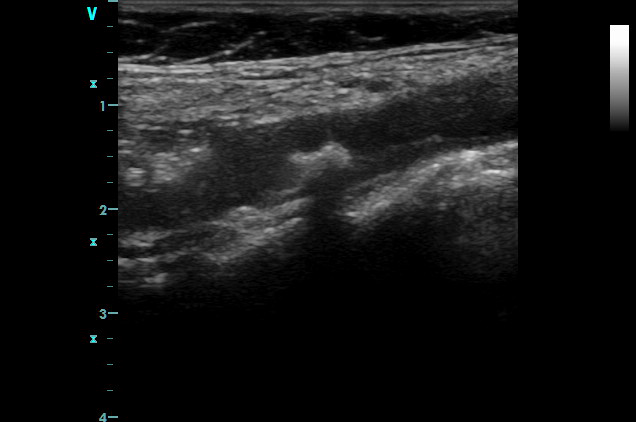Fibrous Tissue: (175, 174, 260, 209), (305, 155, 380, 175)
Lipid Core: (392, 154, 435, 176)
